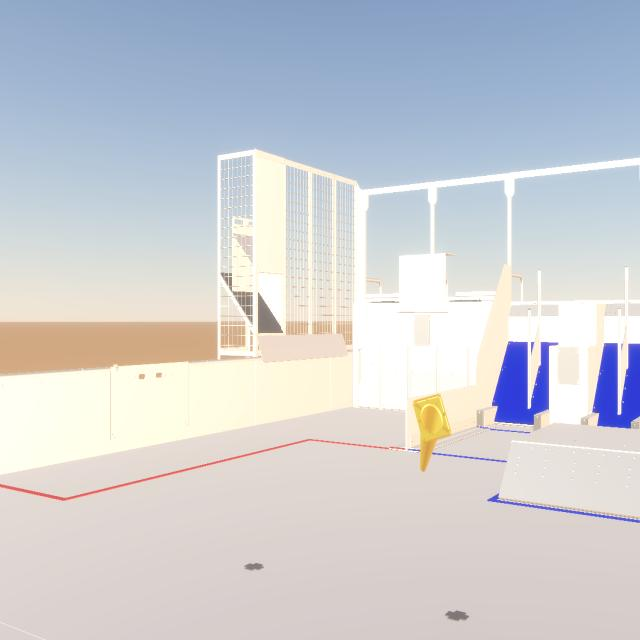frc_cone: (413, 394, 451, 472)
